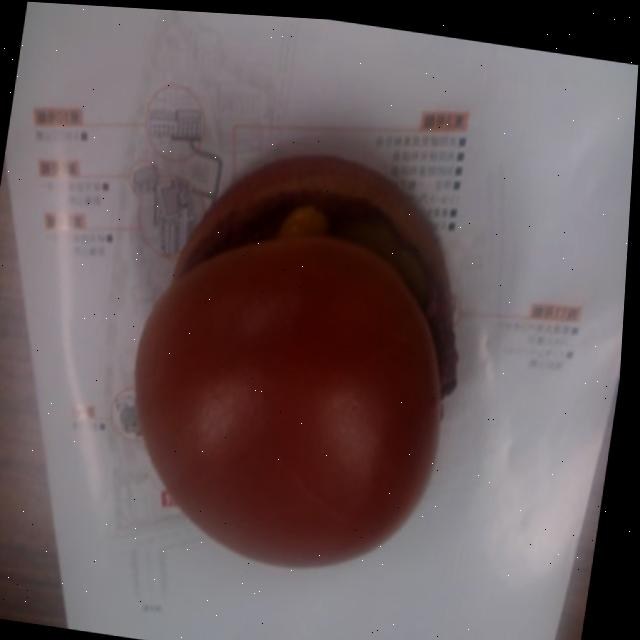汉堡快餐: (123, 121, 494, 592)
